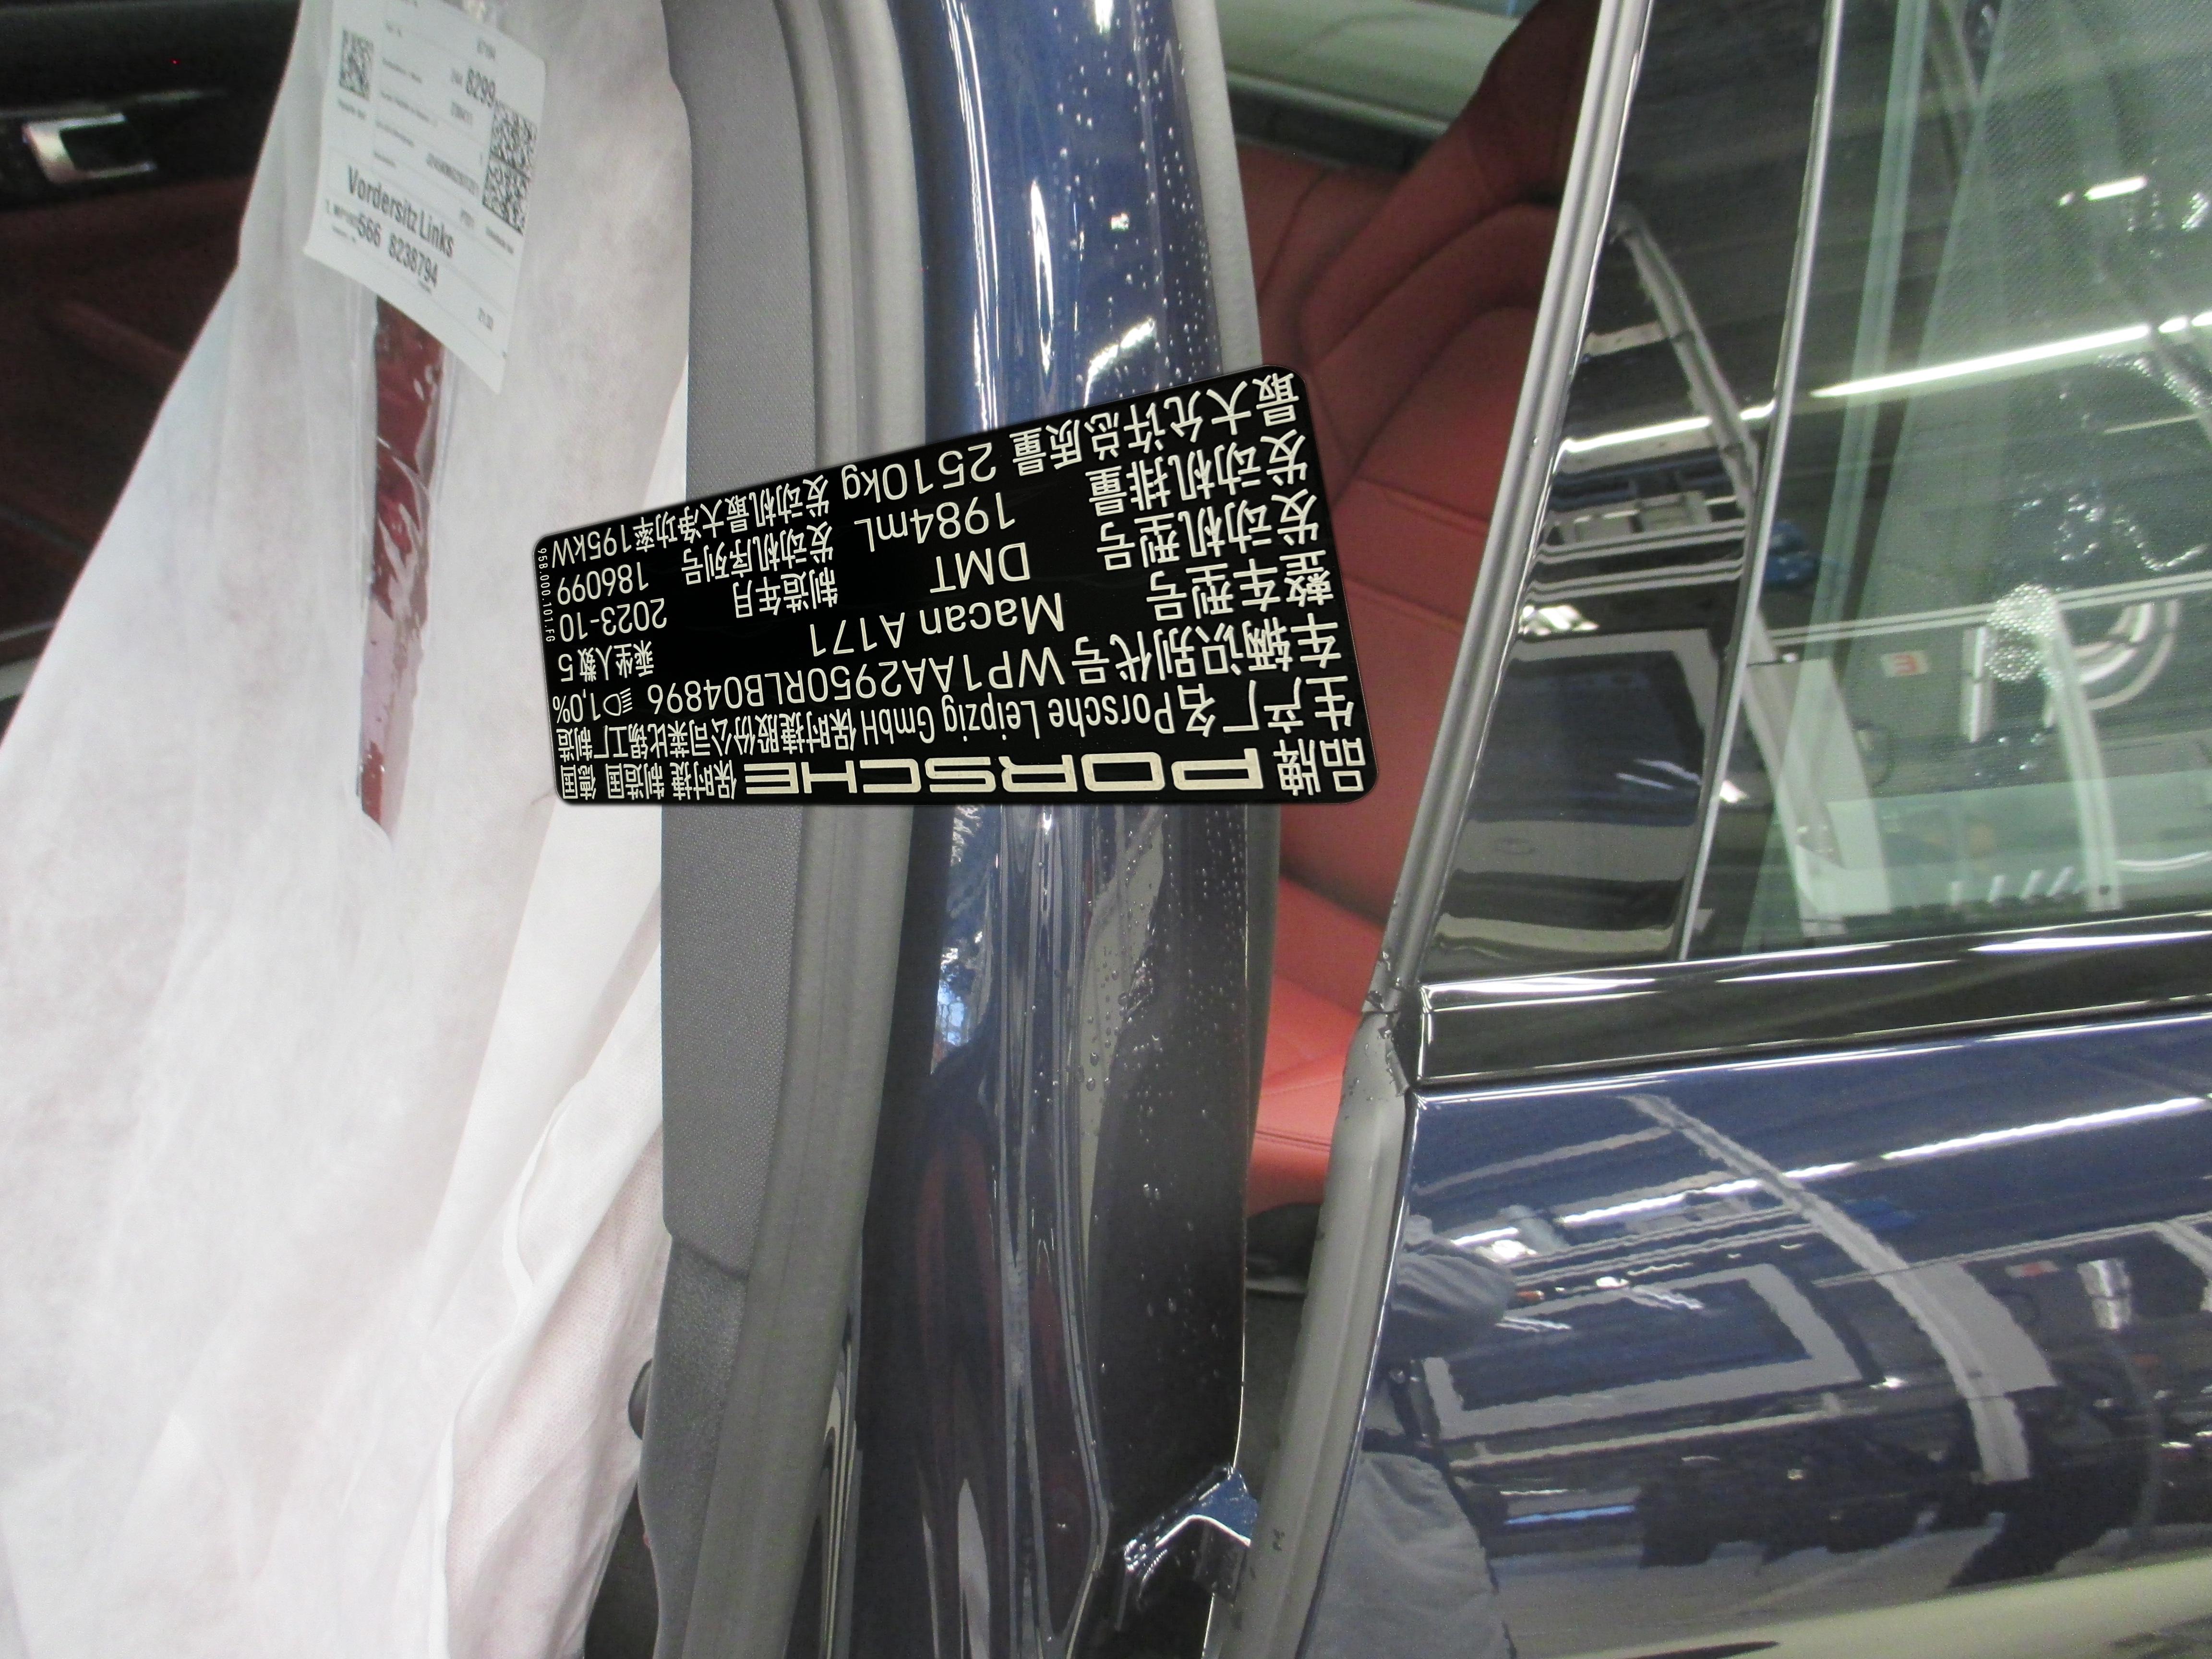Typlabel-China: (533, 364, 1378, 805)
